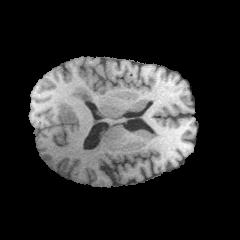glioma: (56, 84, 110, 123)
